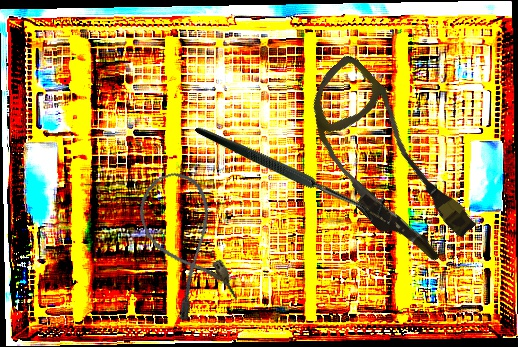Cannula: (275, 51, 496, 276), (130, 165, 241, 323)
Hook Surgical: (194, 63, 391, 273)
